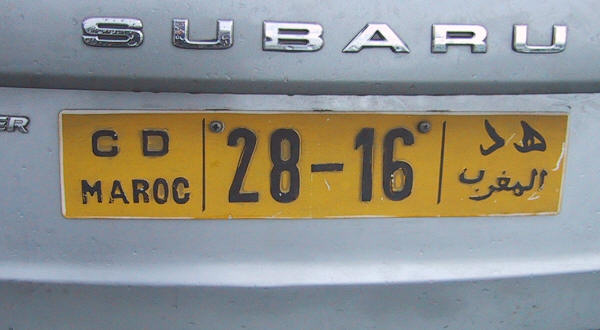number_plate: (56, 108, 570, 220)
